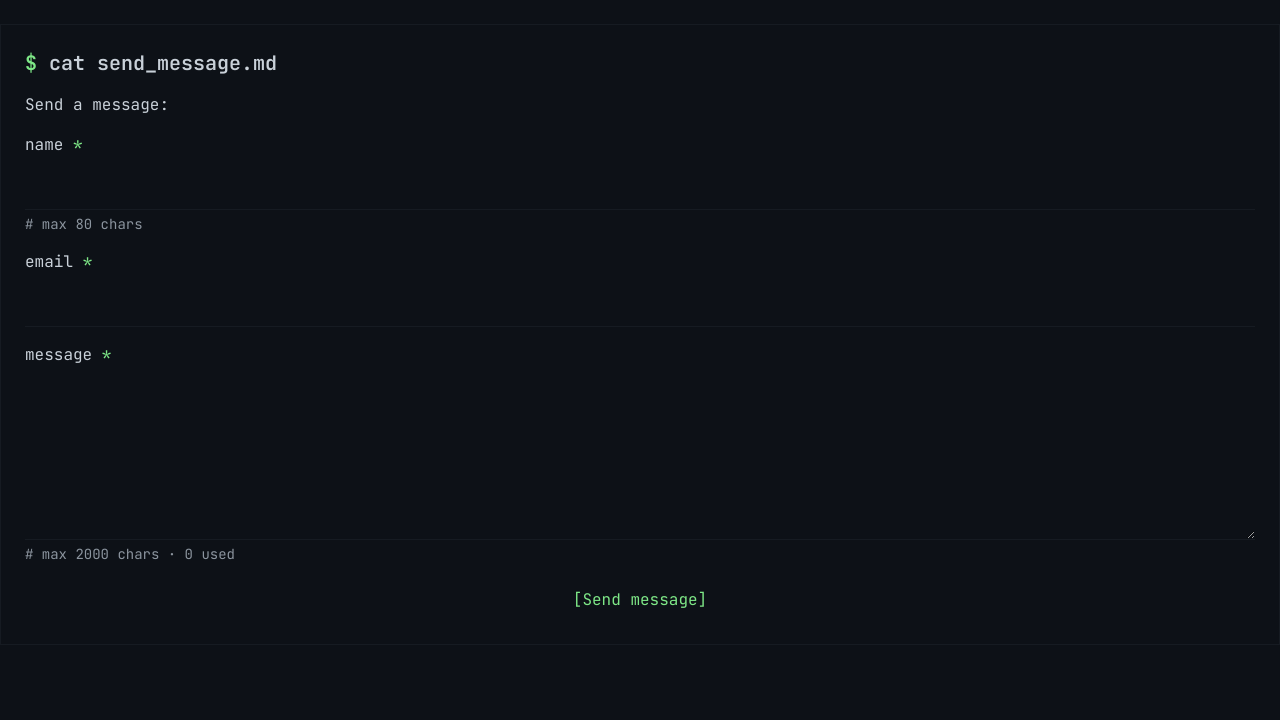
Test: ContactForm › character counter › updates the message counter on every keystroke
The width and height of the screenshot is (1280, 720).
Type "hello" into the text box labelled "message * # max 2000 chars · 0 used" at (640, 456), box [25,371,1255,540]
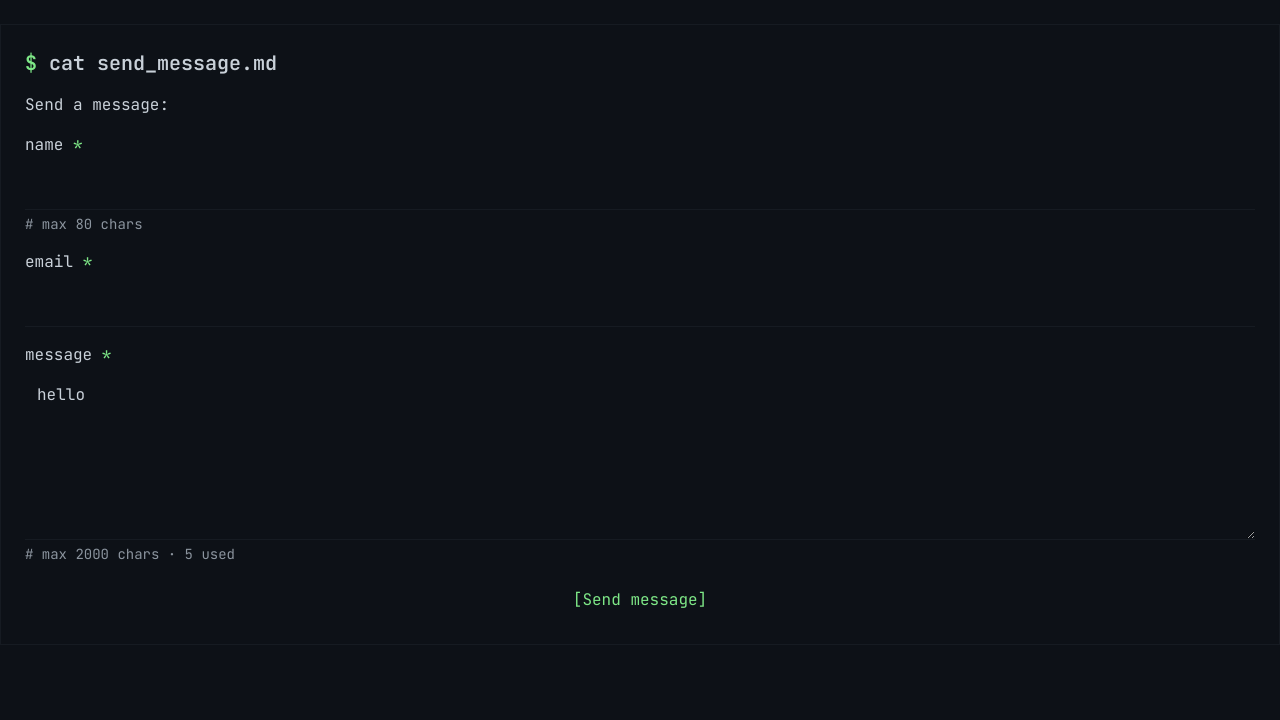
Expected: the text "# max 2000 chars · 5 used" is shown, [25,545,235,563]
